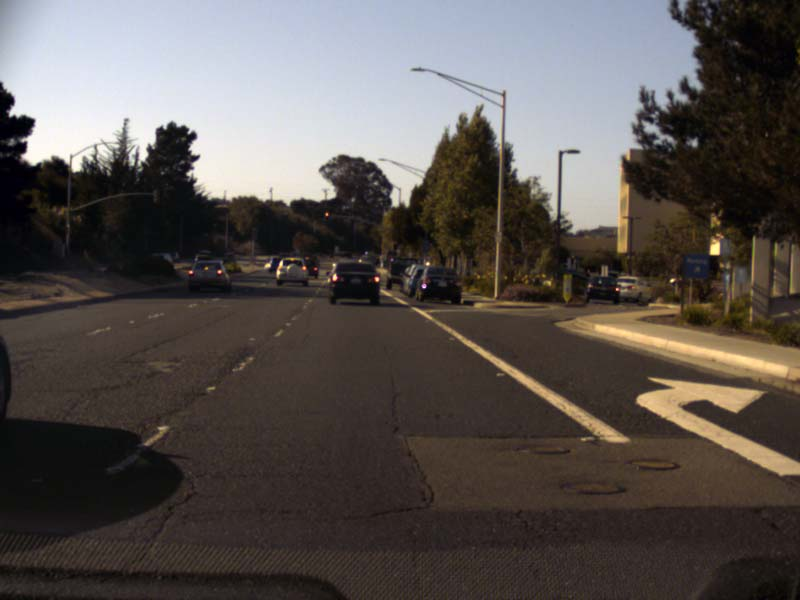Yellow: (325, 211, 329, 219)
